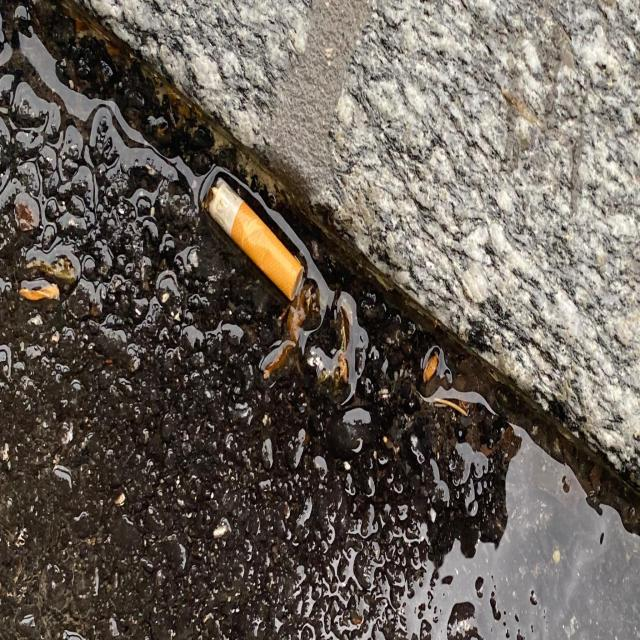other waste: (202, 176, 304, 302)
